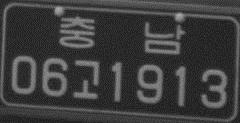0: (10, 54, 38, 95)
1: (103, 60, 130, 103), (168, 65, 194, 108)
3: (201, 68, 227, 110)
6: (41, 57, 67, 97)
9: (136, 63, 163, 104)
고: (72, 58, 99, 100)
충남_D: (59, 15, 185, 56)
